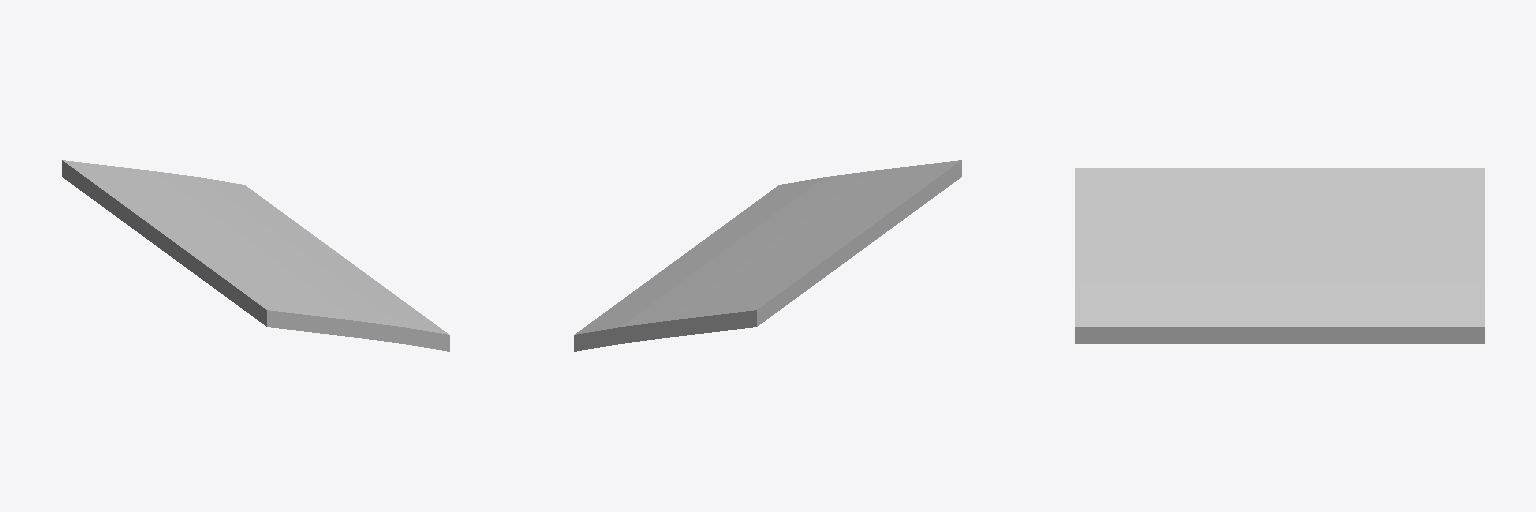
Rendered from house43.obj.
The picture shows the model from 3 angles: view 1: azimuth 30°, elevation 25°; view 2: azimuth 150°, elevation 25°; view 3: azimuth 270°, elevation 25°; orthographic projection.
Visible parts, largest first — view 1: 立方体.060; view 2: 立方体.060; view 3: 立方体.060.
Boxes of the visible parts, x1=… form: 立方体.060: x1=62, y1=160, x2=449, y2=351; 立方体.060: x1=574, y1=160, x2=961, y2=351; 立方体.060: x1=1075, y1=168, x2=1484, y2=343.
Size of the model in its own units: 34 by 15.35 by 66.